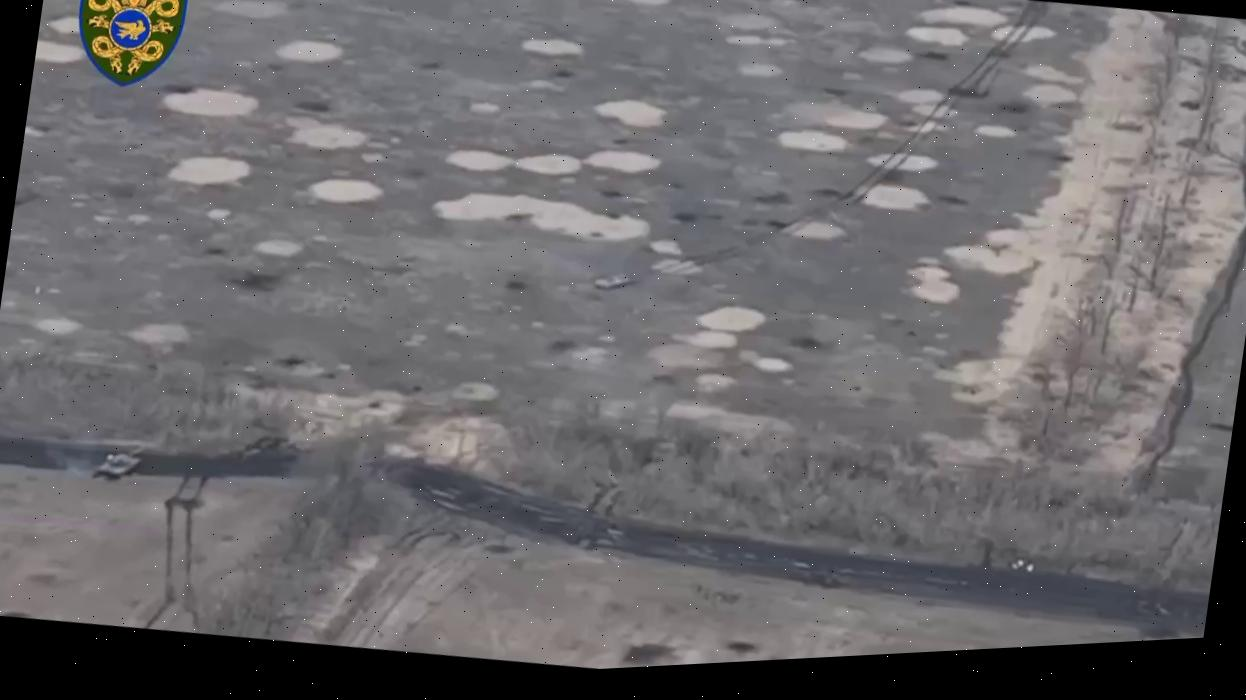vehicle: (89, 437, 148, 488), (594, 267, 632, 296)
